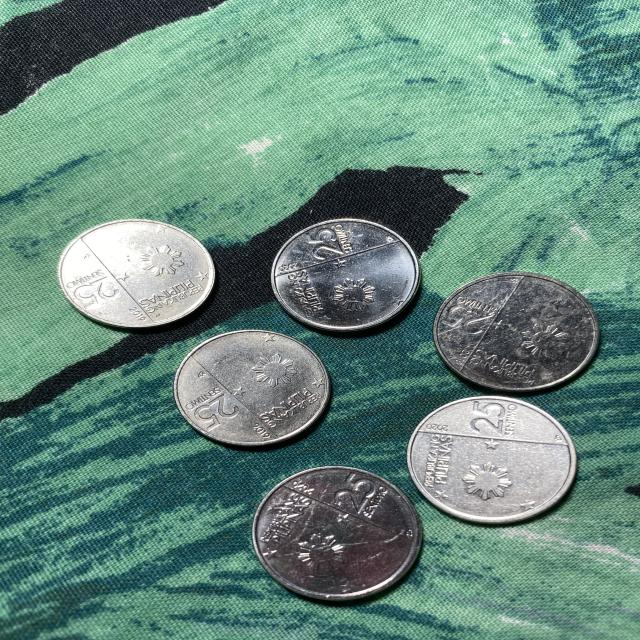25Cent_New_Front: (193, 392, 246, 430), (332, 473, 379, 510), (440, 305, 492, 335), (301, 227, 348, 259), (467, 401, 511, 434), (75, 278, 118, 308)
